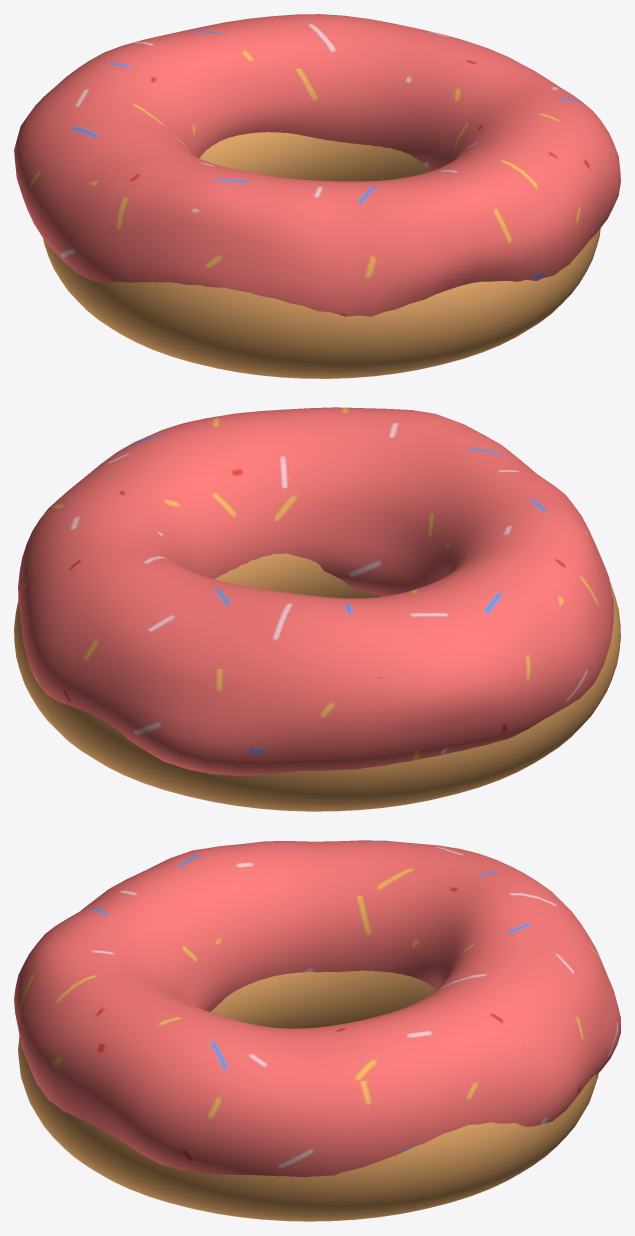
File: donut.glb
3 renders of one model, top to bottom at view 1: azimuth 30°, elevation 25°; view 2: azimuth 150°, elevation 25°; view 3: azimuth 270°, elevation 25°, orthographic. The views are drawn at different scales.
Visible parts, largest first — view 1: Torus 4, Torus 3; view 2: Torus 4, Torus 3; view 3: Torus 4, Torus 3.
Boxes of the visible parts, <box> form: Torus 4: <box>14,14,620,316</box>; Torus 3: <box>43,132,600,378</box>; Torus 4: <box>18,407,613,775</box>; Torus 3: <box>14,553,620,811</box>; Torus 4: <box>14,840,620,1177</box>; Torus 3: <box>18,970,598,1221</box>.
Size of the model in its own units: 0.1436 by 0.0519 by 0.1457.
2 materials, 1 textured.
